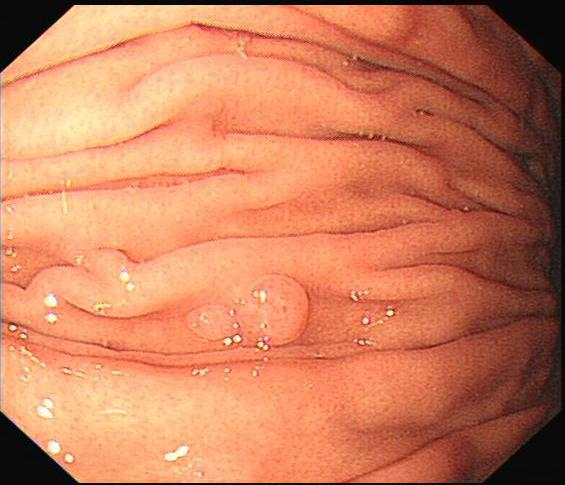Polyp: (245, 276, 308, 349)
